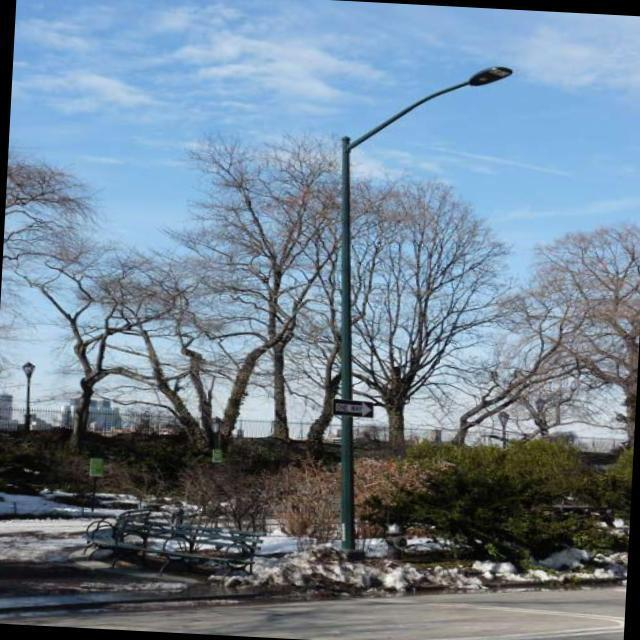off: (300, 21, 544, 190)
